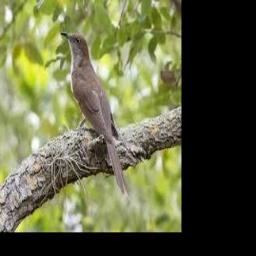Cuckoo: (60, 31, 131, 199)
